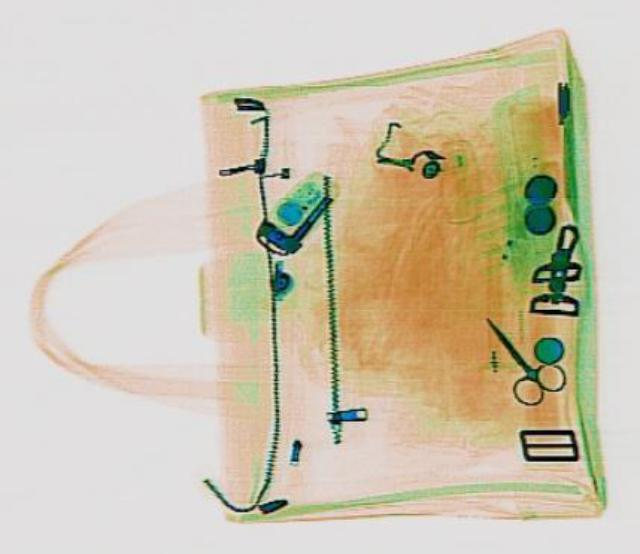Scissors: (458, 302, 572, 408)
